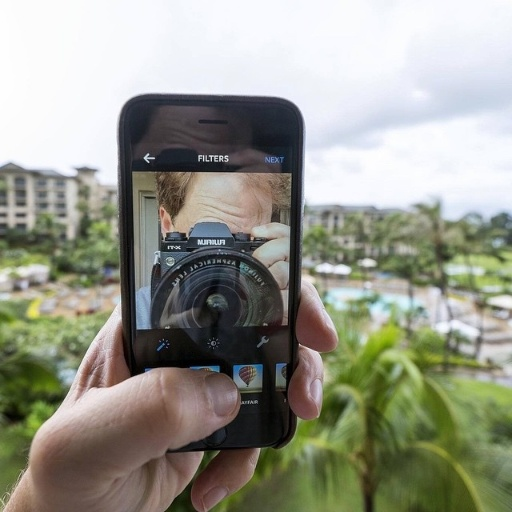hand: (24, 285, 336, 494), (249, 219, 288, 324)
